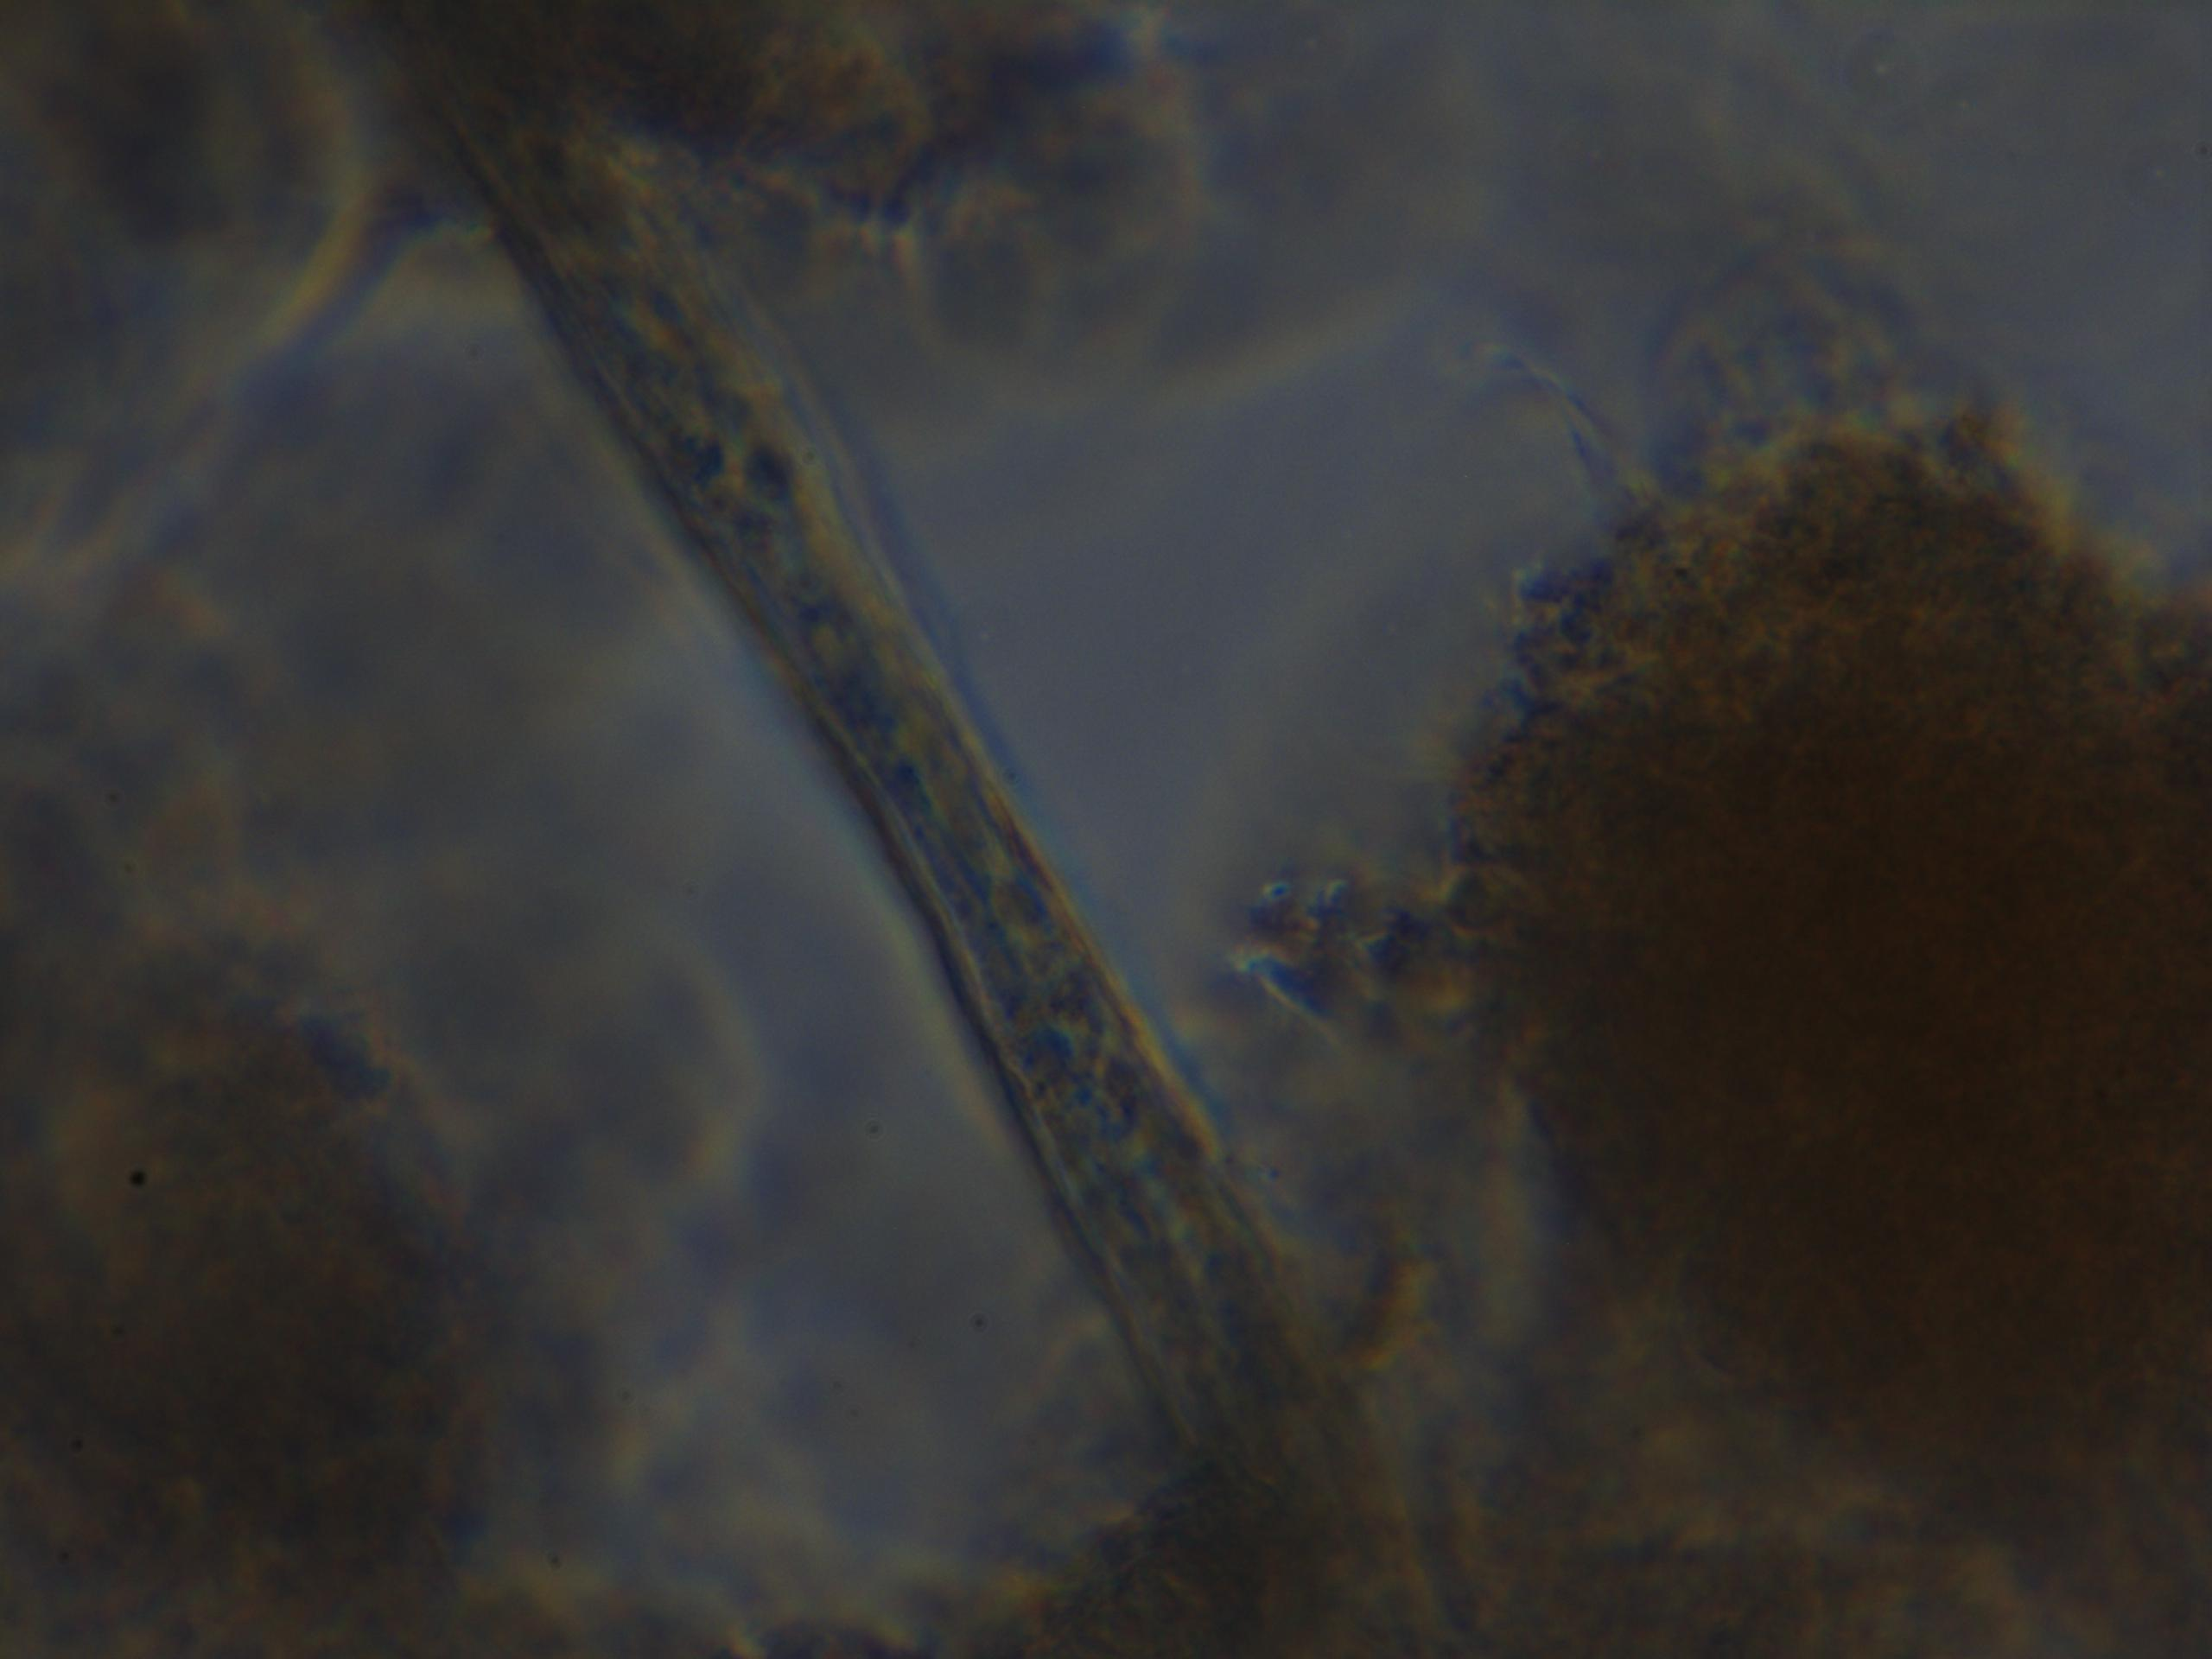spherical_floc: (1418, 410, 2212, 1610)
